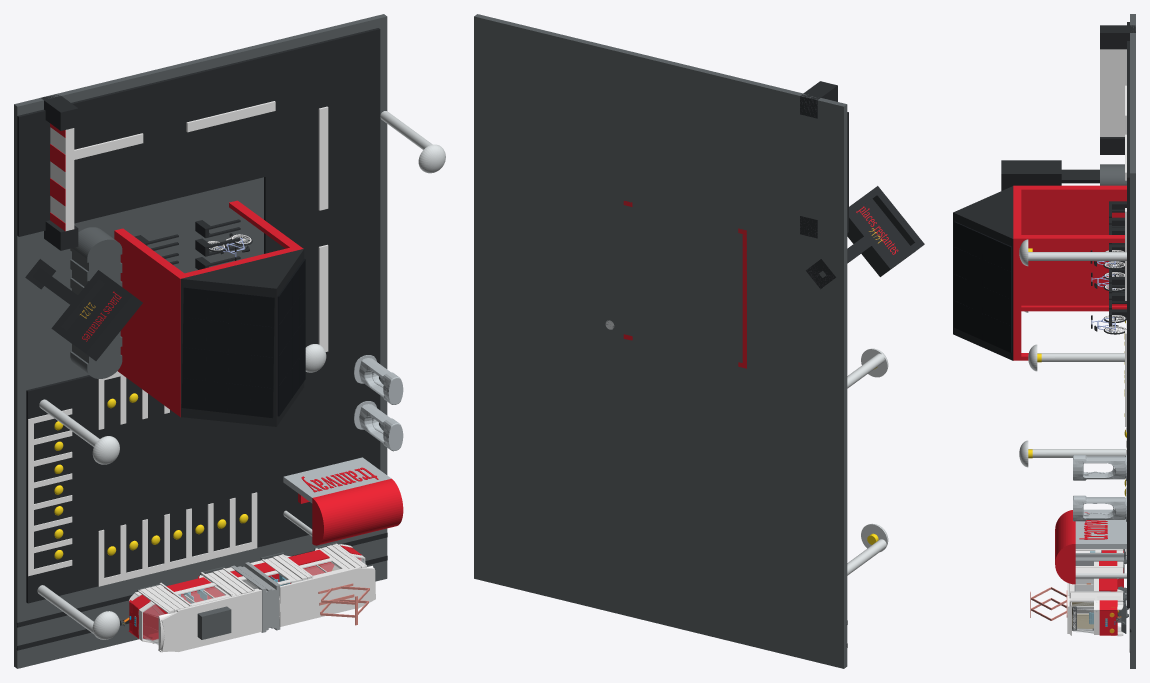
The model's file is tinker.obj.
The picture shows the model from 3 angles, left to right: view 1: azimuth 30°, elevation 25°; view 2: azimuth 150°, elevation 25°; view 3: azimuth 270°, elevation 25°; orthographic projection. The views are drawn at different scales.
Visible parts, largest first — view 1: obj_51, obj_21, obj_60, obj_49, obj_52, obj_44, obj_50, obj_4, obj_61, obj_5, obj_55, obj_56 (+10 smaller); view 2: obj_51, obj_44, obj_61, obj_50, obj_19, obj_48, obj_60; view 3: obj_60, obj_49, obj_51, obj_50, obj_52, obj_44, obj_54, obj_56, obj_55, obj_19, obj_47, obj_21 (+3 smaller).
Boxes of the visible parts, x1,y1,x2,y2 form: obj_51: (14, 14, 387, 668); obj_21: (26, 305, 380, 603); obj_60: (114, 200, 305, 426); obj_49: (120, 542, 375, 652); obj_52: (283, 457, 403, 545); obj_44: (25, 259, 142, 360); obj_50: (41, 94, 78, 250); obj_4: (98, 492, 257, 586); obj_61: (70, 227, 122, 378); obj_5: (28, 408, 72, 576); obj_55: (354, 401, 403, 451); obj_56: (354, 355, 403, 404); obj_51: (474, 14, 848, 668); obj_44: (806, 186, 924, 289); obj_61: (756, 227, 790, 366); obj_50: (800, 81, 837, 238); obj_19: (847, 523, 888, 575); obj_48: (847, 348, 888, 388); obj_60: (623, 201, 746, 368); obj_60: (953, 185, 1126, 360); obj_49: (1030, 549, 1128, 636); obj_51: (1127, 14, 1135, 668); obj_50: (1100, 25, 1135, 154); obj_52: (1055, 509, 1126, 584); obj_44: (1001, 160, 1099, 190); obj_54: (1019, 239, 1126, 266); obj_56: (1073, 454, 1126, 481); obj_55: (1073, 495, 1126, 521); obj_19: (1019, 440, 1125, 467); obj_47: (1028, 344, 1124, 371); obj_21: (1127, 421, 1129, 608).
Bounding box in the file's own units: 42.53 × 61 × 20.37.
